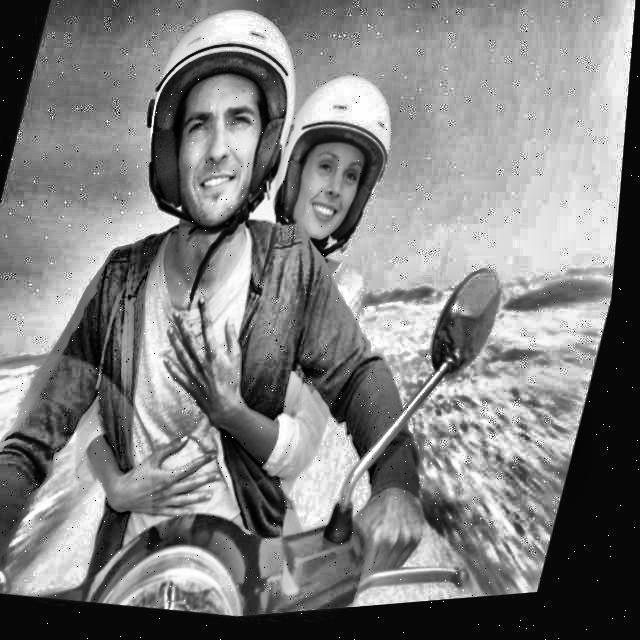Helmet: (110, 0, 326, 266), (260, 62, 416, 280)
